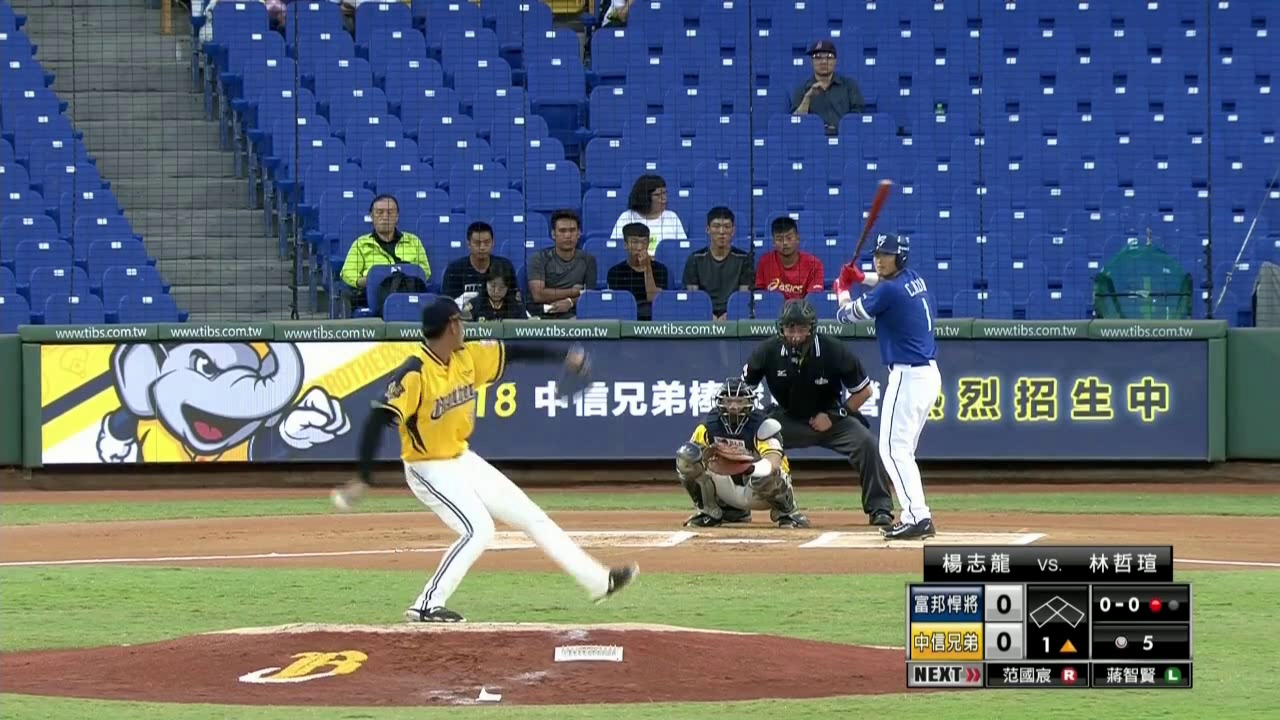base: (1026, 593, 1087, 629)
bat: (533, 265, 584, 280)
out: (1147, 593, 1184, 617)
score1: (991, 589, 1016, 621)
score2: (993, 623, 1018, 658)
session: (1031, 631, 1081, 655)
strikeball: (1096, 591, 1143, 618)
total: (1104, 625, 1162, 656)
